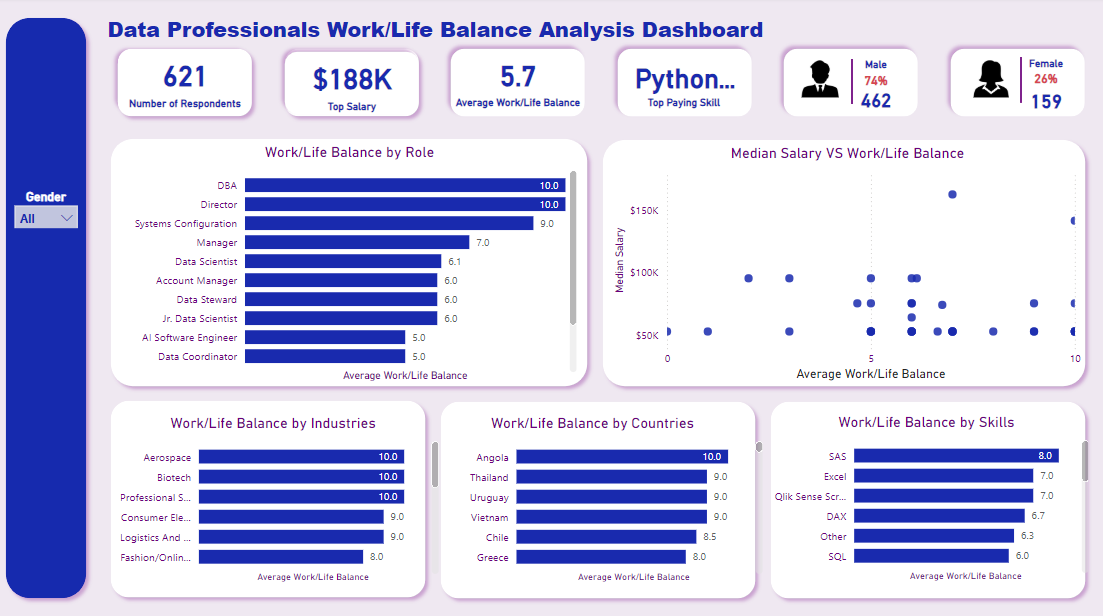

This screenshot's page, from the dashboard's own definition file:
{"tool":"powerbi","page":{"name":"Average Work/Life Balance Analysis","canvas":[1280,720],"ordinal":1},"visuals":[{"type":"shape","box":[0,15,111.1,689.9],"z":0},{"type":"shape","box":[121.5,155.1,569.5,304.4],"z":1000},{"type":"shape","box":[121.5,458.4,382,245.4],"z":2000},{"type":"textbox","box":[121.5,15,798.7,44],"z":3000},{"type":"shape","box":[503.5,459.5,382,245.4],"z":4000},{"type":"shape","box":[885.5,459.5,382,245.4],"z":5000},{"type":"shape","box":[691.1,156.3,576.5,303.3],"z":6000},{"type":"group","id":"g1","title":"Group 2","box":[130.2,50.8,173.2,96],"z":8000},{"type":"group","id":"g2","title":"Group 2","box":[322.9,50.8,173.2,96],"z":9000},{"type":"textbox","box":[139.3,108.1,155,37.8],"z":9000,"group":"g3"},{"type":"shape","box":[515.6,50.8,173.2,96.4],"z":10000},{"type":"shape","box":[708.4,50.8,173.2,96.4],"z":11000},{"type":"shape","box":[901.1,50.8,173.2,96.4],"z":12000},{"type":"shape","box":[1093.8,50.8,173.2,96.4],"z":13000},{"type":"card","title":"Number of Respondents","fields":{"Values":["Measures Table.top salary"]},"box":[345.1,63.8,130.2,58.6],"z":14000},{"type":"shape","box":[130.2,54.4,173.2,89.9],"z":14500,"group":"g1"},{"type":"card","title":"Number of Respondents","fields":{"Values":["Measures Table.Number of respondents"]},"box":[152.3,59.9,130.2,58.6],"z":15000,"group":"g3"},{"type":"card","title":"Number of Respondents","fields":{"Values":["Measures Table.Average work/life balance"]},"box":[536.5,59.9,130.2,58.6],"z":15000},{"type":"shape","box":[130.2,50.8,173.2,96],"z":16000,"group":"g1"},{"type":"shape","box":[322.9,50.8,173.2,96],"z":16000,"group":"g2"},{"type":"card","title":"Number of Respondents","fields":{"Values":["Measures Table.Top paying skill"]},"box":[730.4,62.5,129.6,57.9],"z":16000},{"type":"shape","box":[322.9,54.4,173.2,89.9],"z":16500,"group":"g2"},{"type":"card","title":"Number of Respondents","fields":{"Values":["Measures Table.Number of male respondents"]},"box":[987.4,94.9,57.9,48.6],"z":17000},{"type":"group","id":"g3","title":"Group 1","box":[139.3,59.9,155,85.9],"z":18000},{"type":"textbox","box":[332,112,155,37.8],"z":19000},{"type":"textbox","box":[515.1,107.7,173.6,38.2],"z":20000},{"type":"textbox","box":[716.2,108.1,155,37.8],"z":21000},{"type":"textbox","box":[986.2,63.7,60.2,32.4],"z":22000},{"type":"card","fields":{"Values":["Measures Table.% male"]},"box":[988.6,77.6,55.6,41.7],"z":23000},{"type":"image","box":[920.3,68.3,63.7,53.2],"z":24000},{"type":"shape","box":[952.7,71.8,71.8,52.1],"z":25000},{"type":"card","fields":{"Values":["Measures Table.% female"]},"box":[1185.5,75.6,55.4,41.6],"z":26000},{"type":"textbox","box":[1183,63,60.5,32.8],"z":27000},{"type":"shape","box":[1148.3,69.5,71.8,53.2],"z":28000},{"type":"card","title":"Number of Respondents","fields":{"Values":["Measures Table.Number of female respondents"]},"box":[1184.3,95.7,58,49.1],"z":29000},{"type":"image","box":[1118.2,68.3,62.5,53.2],"z":30000},{"type":"barChart","title":"Work/Life Balance by Role","fields":{"Category":["Data Professional Survey.Q1 - Which Title Best Fits your Current Role?"],"Y":["Measures Table.Average work/life balance"]},"box":[138.9,169,535.9,280.1],"z":31000},{"type":"barChart","title":"Work/Life Balance by Industries","fields":{"Category":["Data Professional Survey.Q4 - What Industry do you work in?"],"Y":["Measures Table.Average work/life balance"]},"box":[121.5,482.7,393.6,199.1],"z":32000},{"type":"barChart","title":"Work/Life Balance by Countries","fields":{"Category":["Data Professional Survey.Q11 - Which Country do you live in?"],"Y":["Measures Table.Average work/life balance"]},"box":[486.2,482.7,404,199.1],"z":33000},{"type":"barChart","title":"Work/Life Balance by Skills","fields":{"Category":["Data Professional Survey.Q5 - Favorite Programming Language"],"Y":["Measures Table.Average work/life balance"]},"box":[882.1,481.5,385.5,199.1],"z":36000},{"type":"slicer","fields":{"Values":["Data Professional Survey.Q9 - Male/Female?"]},"box":[9.3,231.5,92.6,35.9],"z":37000},{"type":"textbox","box":[9.3,217.6,92.6,27.8],"z":39000},{"type":"scatterChart","title":"Median Salary VS Work/Life Balance","fields":{"X":["Measures Table.Average work/life balance"],"Y":["Measures Table.median salary"],"Category":["Data Professional Survey.Q1 - Which Title Best Fits your Current Role?"]},"box":[708.1,169.6,550,278.9],"z":42001}]}

Visuals, with their boxes in screenshot pixels (x1, y1, x2, y2), scaled from the page's 1280x720 canvas onto the 1103x616 screenshot:
shape: bbox=(0, 13, 96, 603)
shape: bbox=(105, 133, 595, 393)
shape: bbox=(105, 392, 434, 602)
textbox: bbox=(105, 13, 793, 50)
shape: bbox=(434, 393, 763, 603)
shape: bbox=(763, 393, 1092, 603)
shape: bbox=(596, 134, 1092, 393)
"Group 2" group: bbox=(112, 43, 261, 126)
"Group 2" group: bbox=(278, 43, 427, 126)
textbox: bbox=(120, 92, 254, 125)
shape: bbox=(444, 43, 594, 126)
shape: bbox=(610, 43, 760, 126)
shape: bbox=(776, 43, 926, 126)
shape: bbox=(943, 43, 1092, 126)
"Number of Respondents" card: bbox=(297, 55, 410, 105)
shape: bbox=(112, 47, 261, 123)
"Number of Respondents" card: bbox=(131, 51, 243, 101)
"Number of Respondents" card: bbox=(462, 51, 575, 101)
shape: bbox=(112, 43, 261, 126)
shape: bbox=(278, 43, 427, 126)
"Number of Respondents" card: bbox=(629, 53, 741, 103)
shape: bbox=(278, 47, 427, 123)
"Number of Respondents" card: bbox=(851, 81, 901, 123)
"Group 1" group: bbox=(120, 51, 254, 125)
textbox: bbox=(286, 96, 420, 128)
textbox: bbox=(444, 92, 593, 125)
textbox: bbox=(617, 92, 751, 125)
textbox: bbox=(850, 54, 902, 82)
card - Measures Table.% male: bbox=(852, 66, 900, 102)
image: bbox=(793, 58, 848, 104)
shape: bbox=(821, 61, 883, 106)
card - Measures Table.% female: bbox=(1022, 65, 1069, 100)
textbox: bbox=(1019, 54, 1072, 82)
shape: bbox=(990, 59, 1051, 105)
"Number of Respondents" card: bbox=(1021, 82, 1071, 124)
image: bbox=(964, 58, 1017, 104)
"Work/Life Balance by Role" barChart: bbox=(120, 145, 581, 384)
"Work/Life Balance by Industries" barChart: bbox=(105, 413, 444, 583)
"Work/Life Balance by Countries" barChart: bbox=(419, 413, 767, 583)
"Work/Life Balance by Skills" barChart: bbox=(760, 412, 1092, 582)
slicer - Data Professional Survey.Q9 - Male/Female?: bbox=(8, 198, 88, 229)
textbox: bbox=(8, 186, 88, 210)
"Median Salary VS Work/Life Balance" scatterChart: bbox=(610, 145, 1084, 384)
